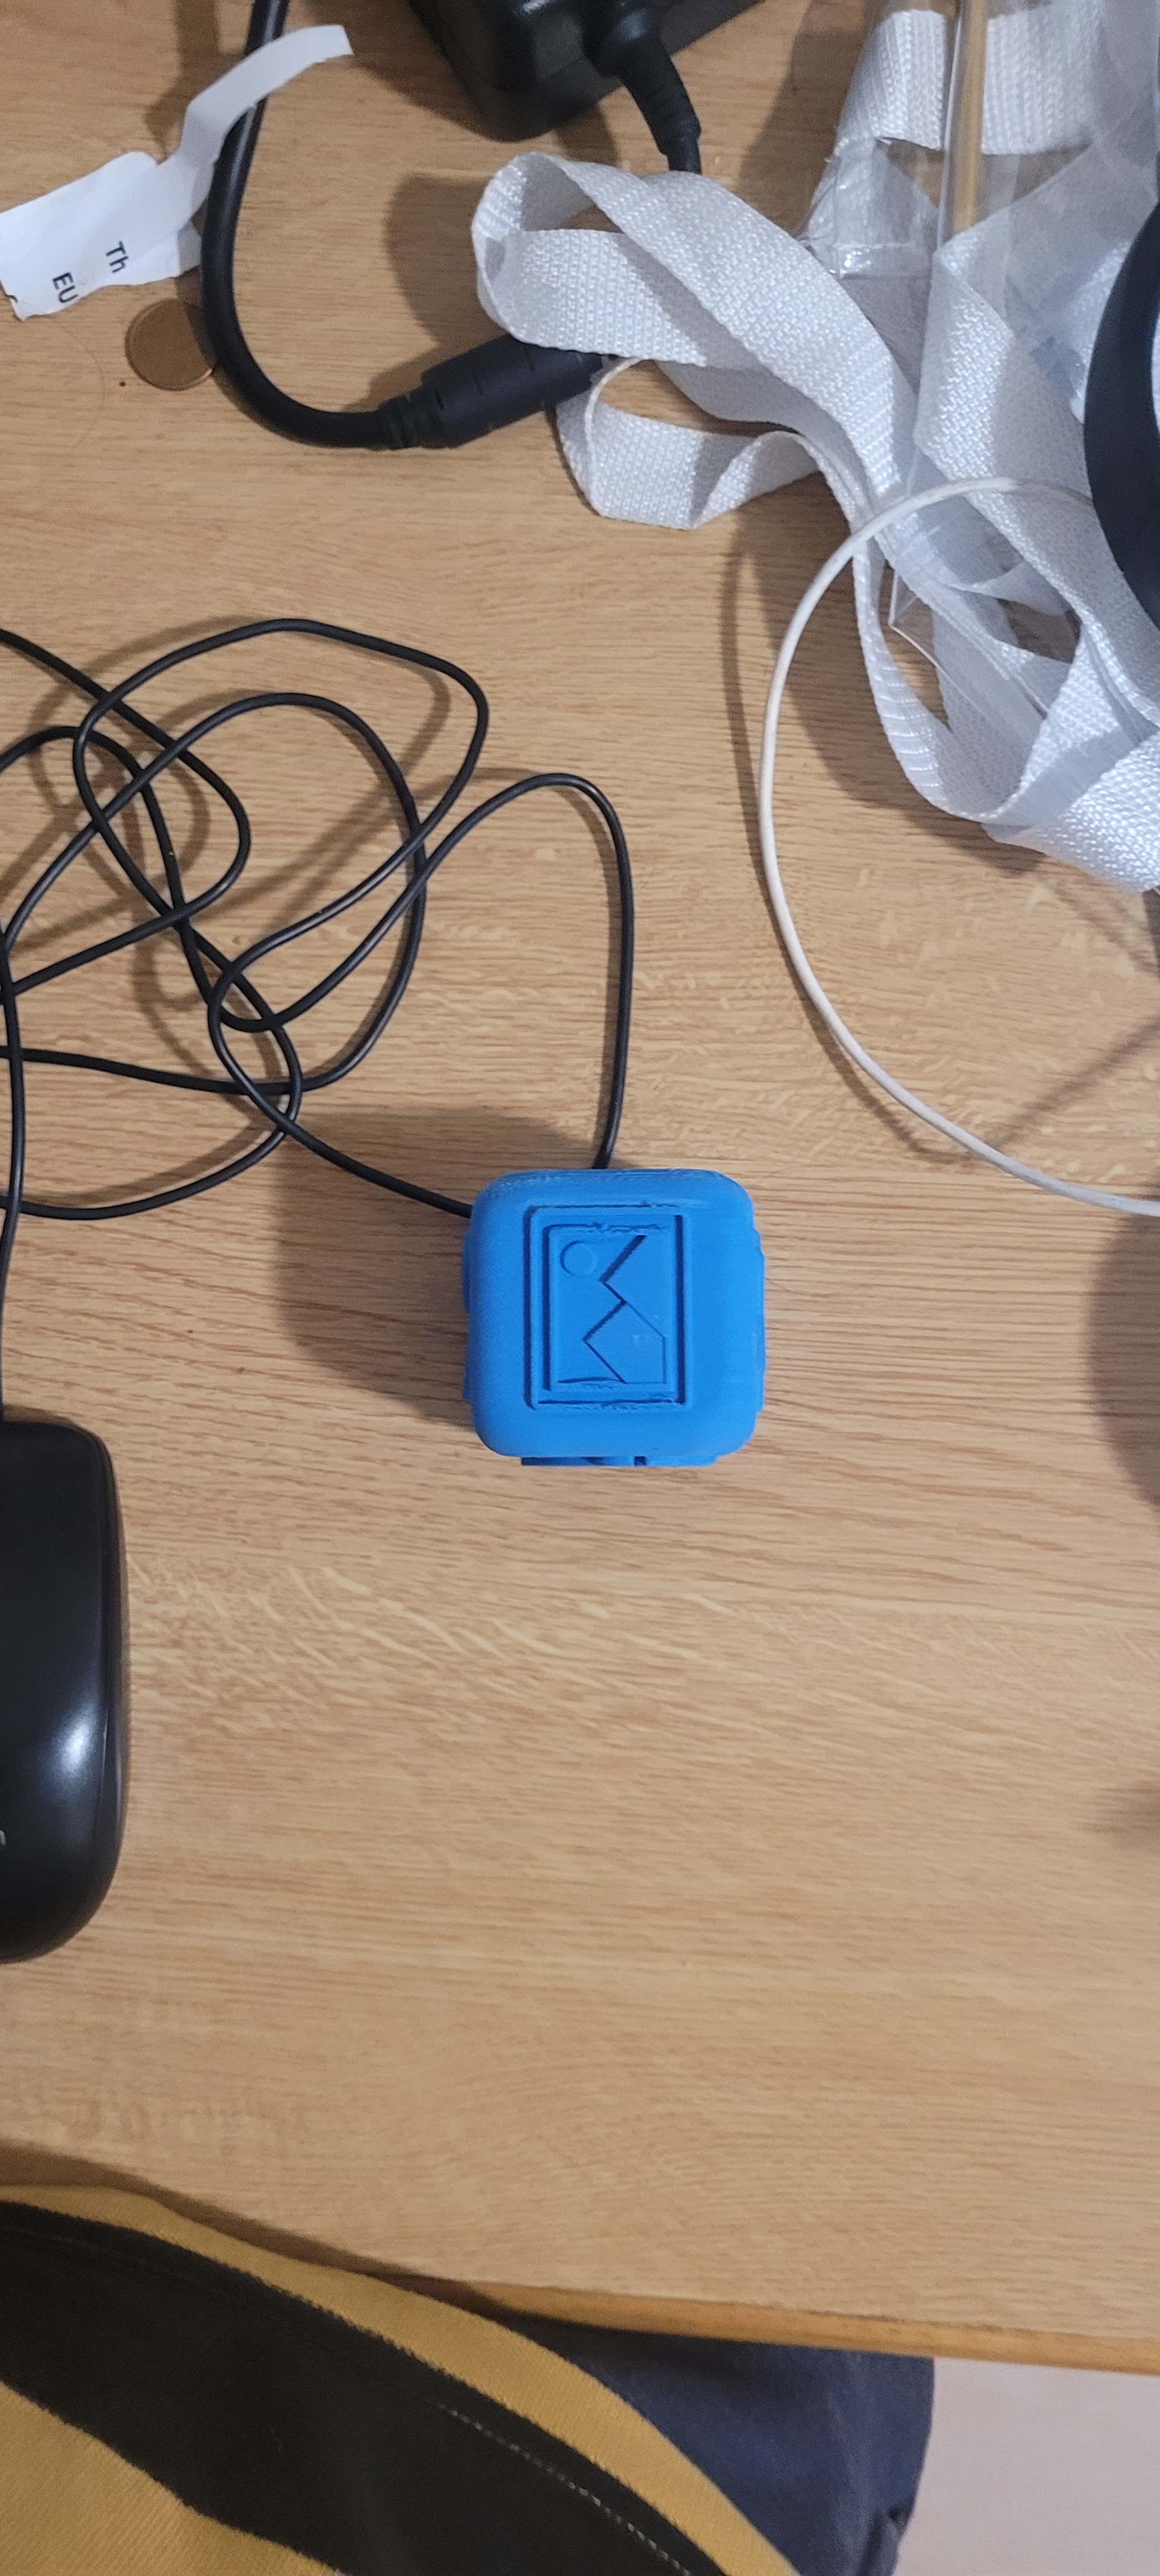Story: (503, 1196, 718, 1441)
